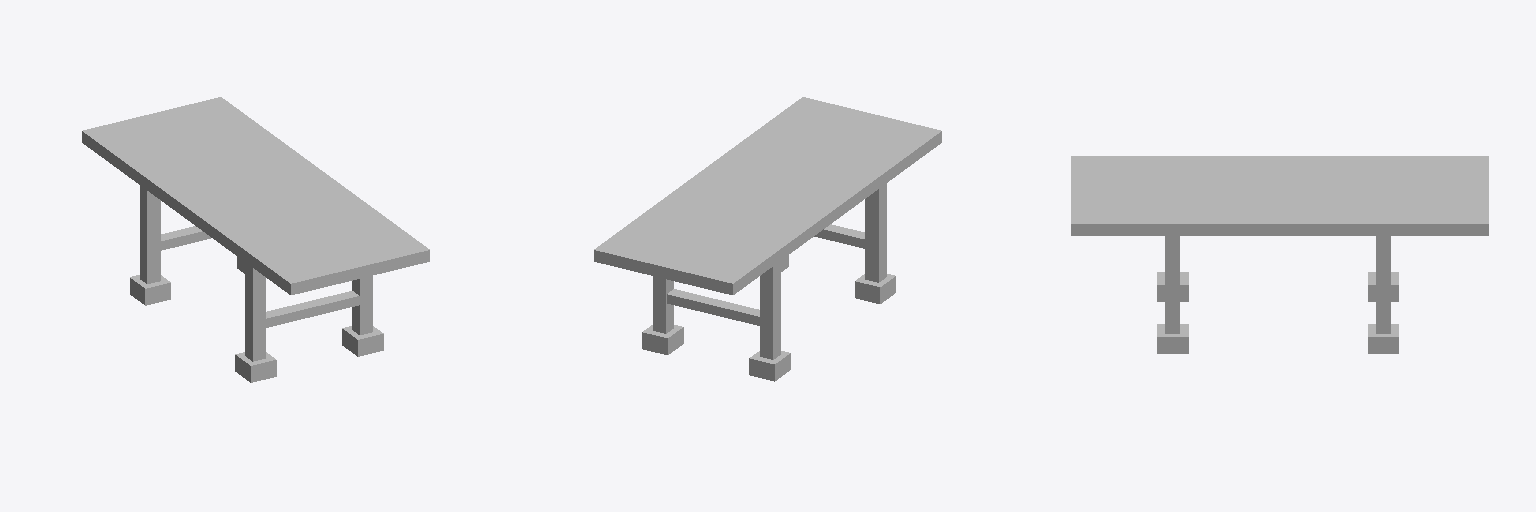
File: firstMonoRoadConnection.obj
3 views of the same model, side by side, from view 1: azimuth 30°, elevation 25°; view 2: azimuth 150°, elevation 25°; view 3: azimuth 270°, elevation 25° (orthographic).
Parts seen in each view (by area): view 1: Cube, Куб.002, Куб.001; view 2: Cube, Куб.001, Куб.002; view 3: Cube, Куб.002, Куб.001.
Boxes of the visible parts, x1,y1,x2,y2 form: Cube: [82, 97, 429, 294]; Куб.002: [235, 262, 383, 382]; Куб.001: [130, 186, 244, 305]; Cube: [594, 97, 941, 294]; Куб.001: [642, 261, 790, 381]; Куб.002: [781, 183, 895, 303]; Cube: [1071, 156, 1488, 235]; Куб.002: [1157, 236, 1188, 353]; Куб.001: [1368, 236, 1398, 353].
Size of the model in its own units: 2 by 1.8 by 5.2.